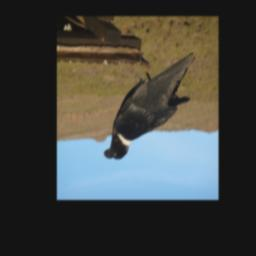Crow: (102, 52, 195, 163)
